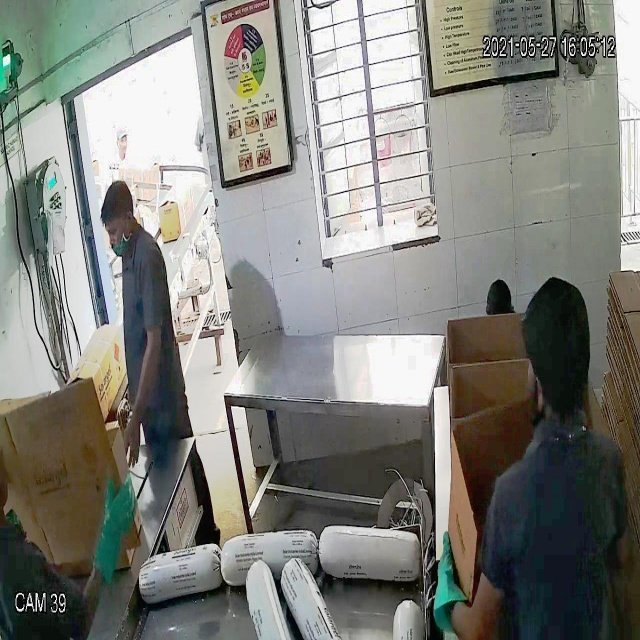Sin_gafas: (96, 213, 135, 252)
